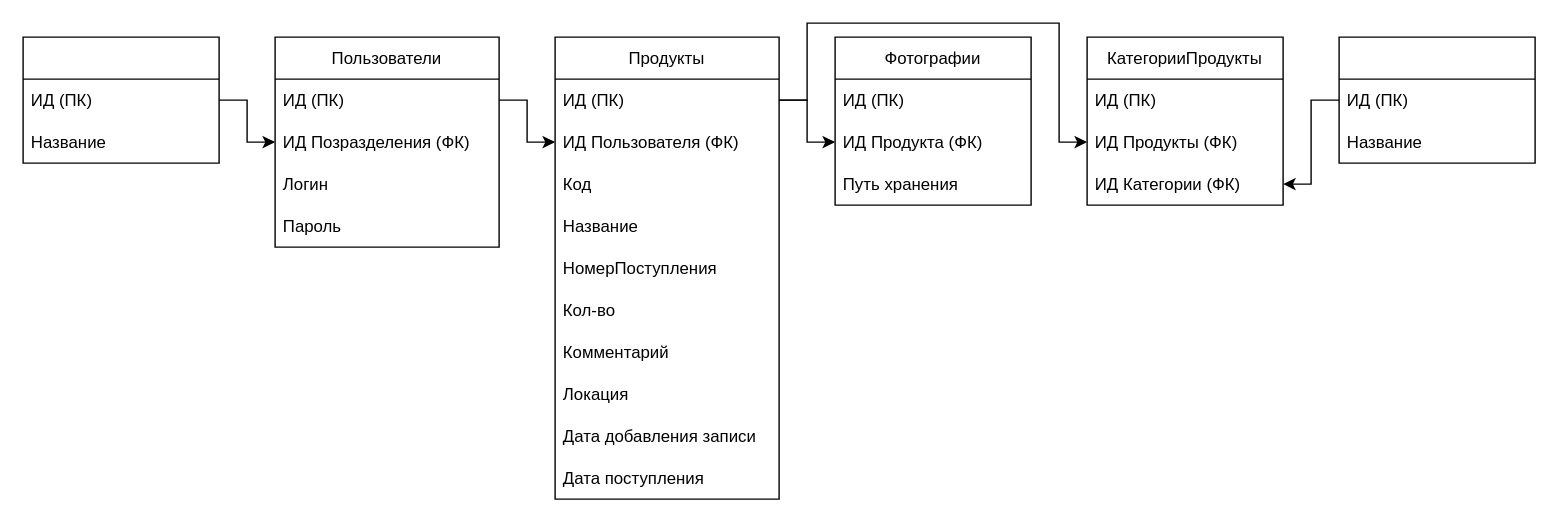
Image size: 1558x522. Some labels were removed from this diagram. The box of each missing label's shape, as (x1, y1, x2, y2) in pixels:
Категории: (1338, 36, 1535, 163)
Подразделение: (22, 36, 219, 163)
